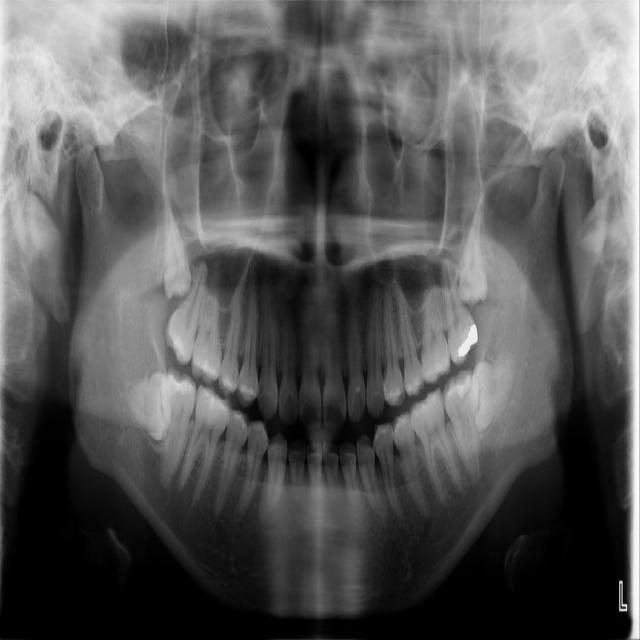3M ESPE Implant: (161, 194, 192, 302)
52: (435, 310, 489, 369), (152, 365, 203, 424), (441, 368, 482, 425)
73: (618, 576, 624, 596)
BioHorizons Implant: (441, 254, 480, 368)
BioLife Implant: (453, 205, 489, 309)
Biomet 3i Implant: (468, 360, 517, 436)
Blue Sky Bio Implant: (440, 368, 482, 488)
Caries: (159, 257, 210, 369)
Implant: (160, 367, 197, 491)
Keystone Dental Implant: (123, 370, 181, 447)
